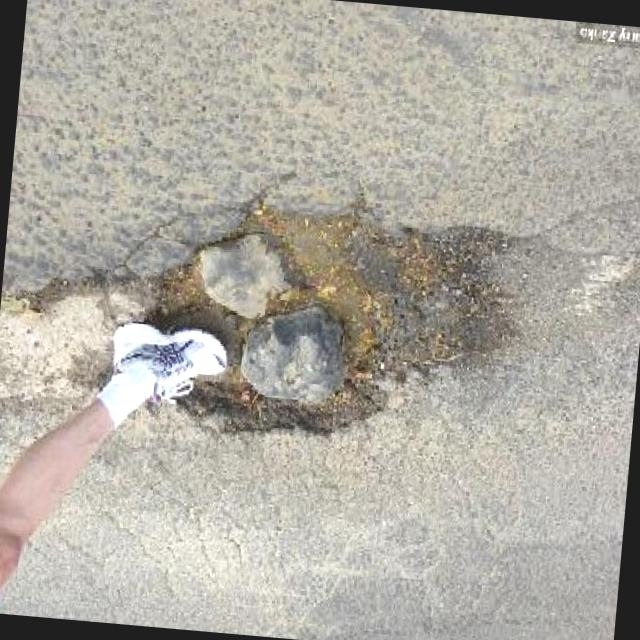pothole: (132, 190, 531, 463)
